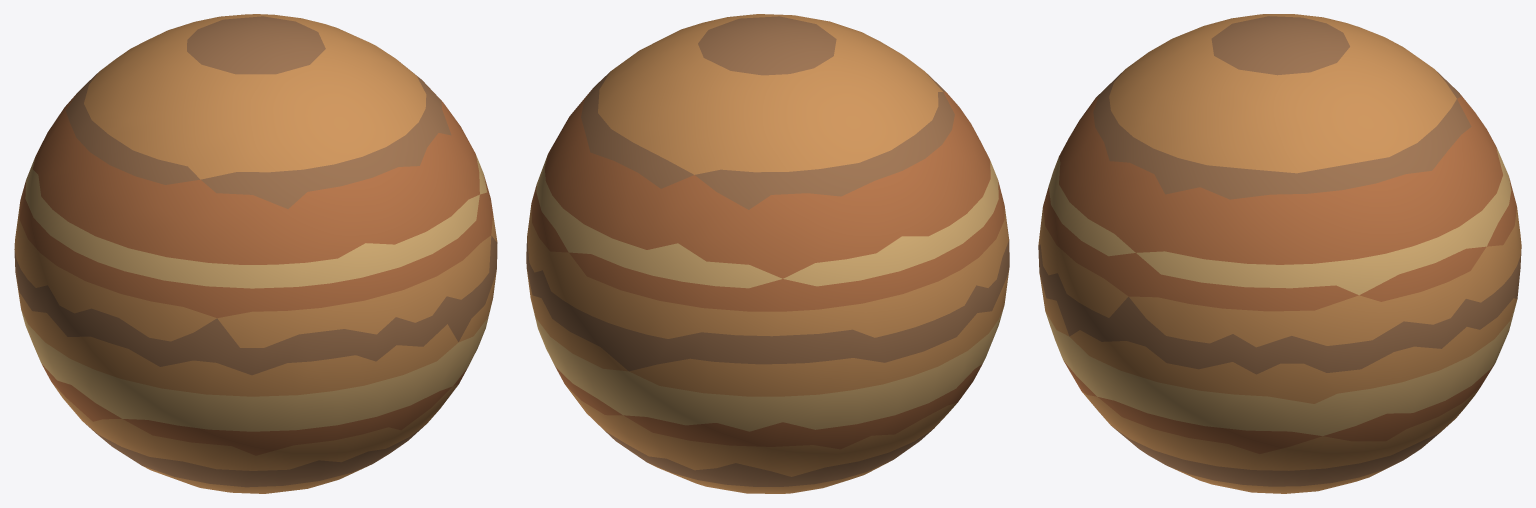
The model's file is Planet_6.gltf.
3 views of the same model, side by side, from view 1: azimuth 30°, elevation 25°; view 2: azimuth 150°, elevation 25°; view 3: azimuth 270°, elevation 25° (orthographic).
Parts seen in each view (by area): view 1: Planet_6; view 2: Planet_6; view 3: Planet_6.
Boxes of the visible parts, bbox=[...] form: Planet_6: bbox=[14, 14, 497, 493]; Planet_6: bbox=[526, 14, 1009, 493]; Planet_6: bbox=[1038, 14, 1521, 493].
Bounding box in the file's own units: 3.76 × 3.75 × 3.76.
1 material, 1 textured.
